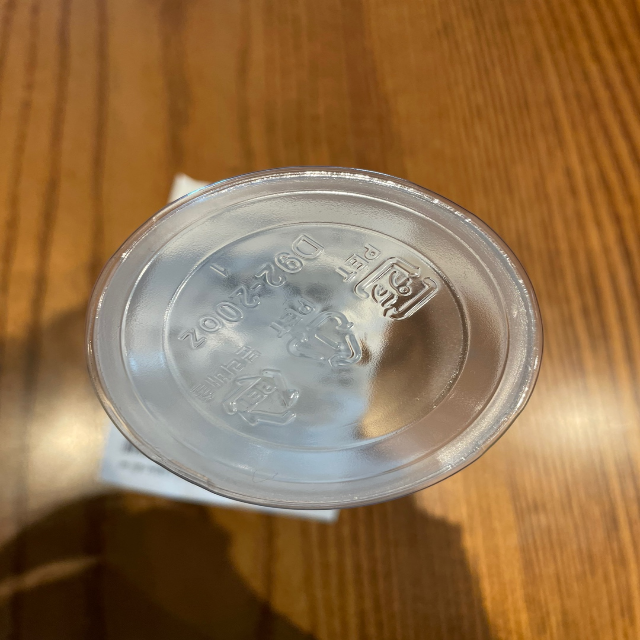pet: (183, 334, 306, 432), (332, 236, 444, 324), (265, 291, 368, 370)
